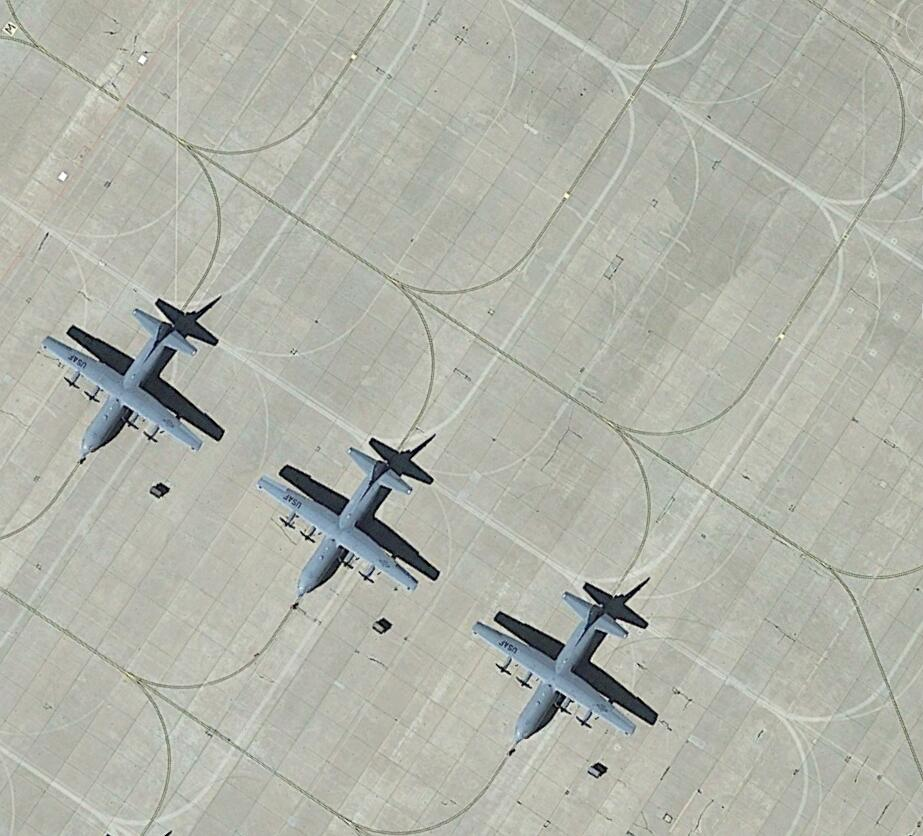A2: (469, 572, 666, 744), (250, 430, 448, 597), (39, 294, 228, 458)
